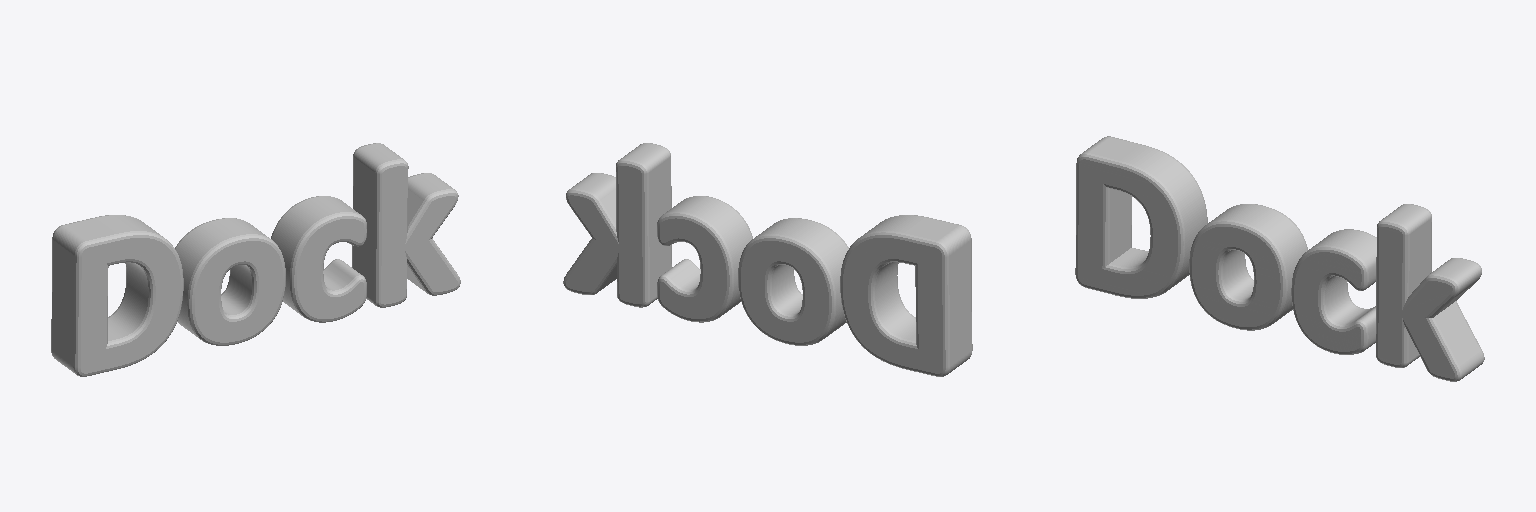
File: dock.obj
3 views of the same model, side by side, from view 1: azimuth 30°, elevation 25°; view 2: azimuth 150°, elevation 25°; view 3: azimuth 330°, elevation 25° (orthographic).
Parts seen in each view (by area): view 1: Text; view 2: Text; view 3: Text.
Boxes of the visible parts, x1,y1,x2,y2 form: Text: [51, 143, 460, 376]; Text: [563, 143, 972, 376]; Text: [1075, 136, 1484, 381].
Bounding box in the file's own units: 1.46 × 0.5293 × 0.1782.